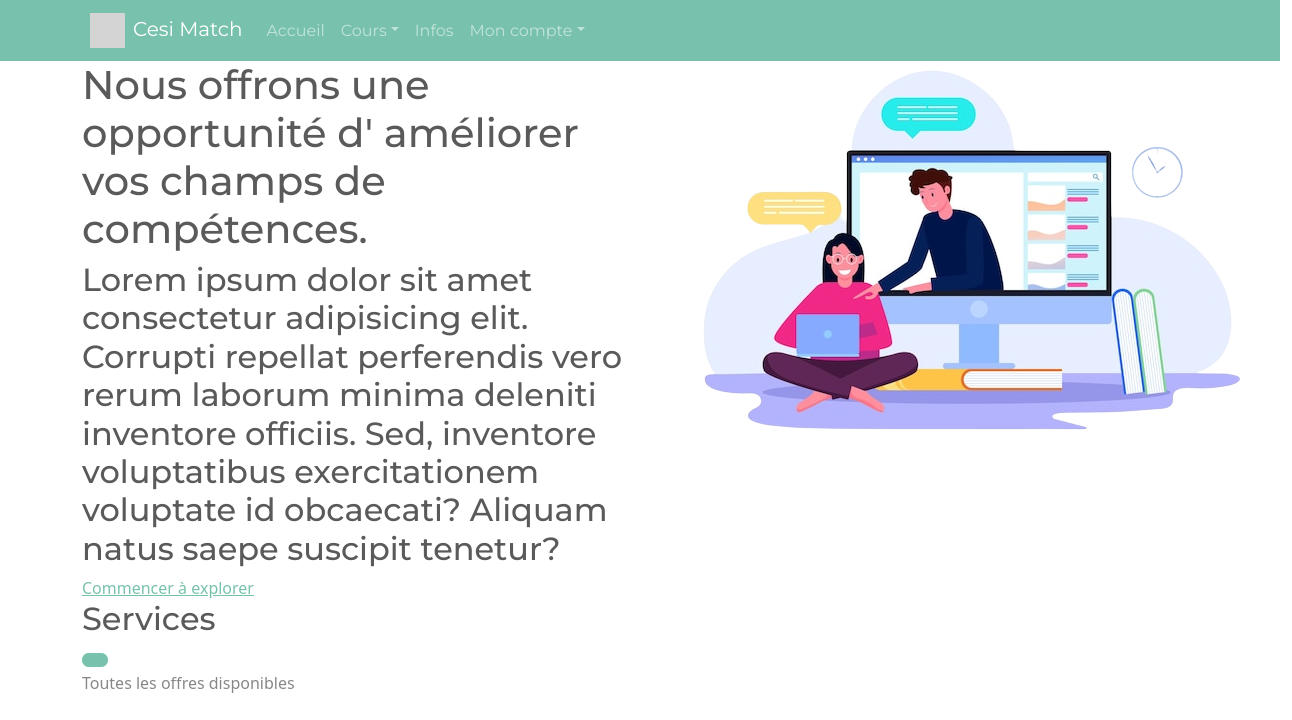
Navigation › should navigate to the course page
Find a link with an href attribute containing "about" and click it
What coordinates should you click on to do the following:
click the link "Commencer à explorer"
I would click on:
 (168, 588)
Its box is [82,577,254,599].
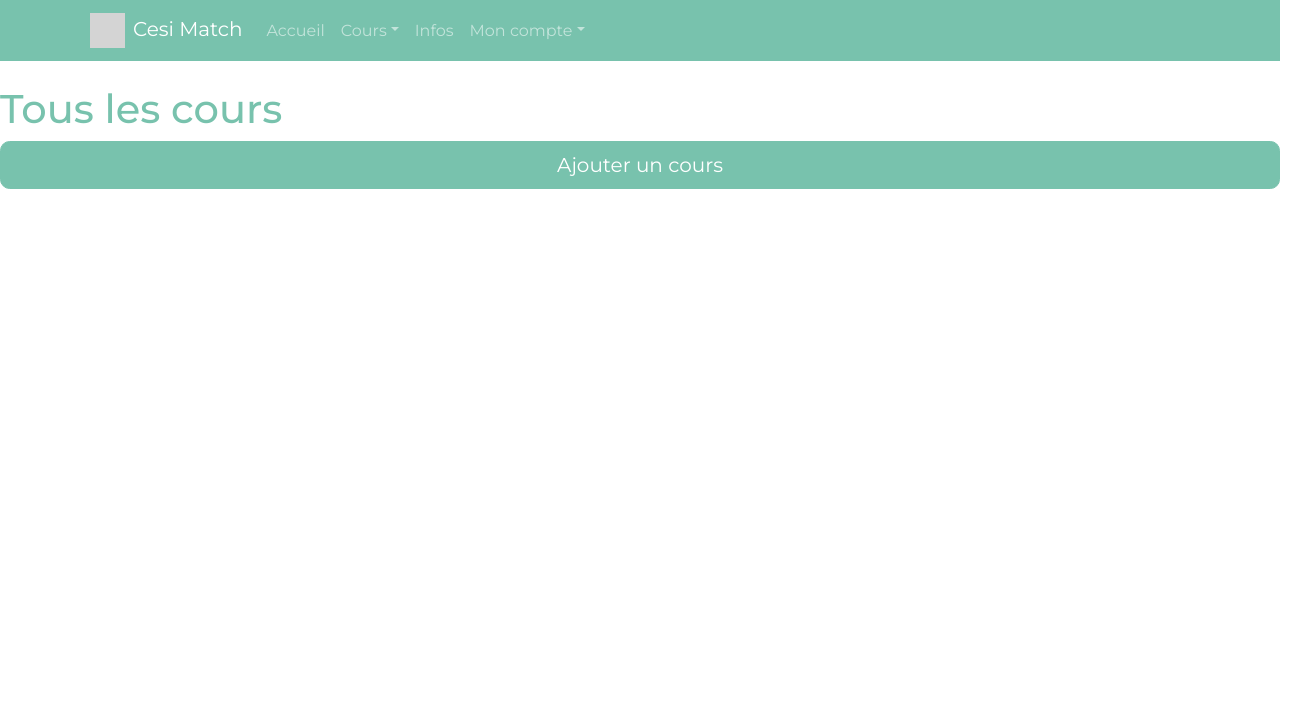
Expected: the heading "Tous les cours" is shown, [0,84,282,133]
